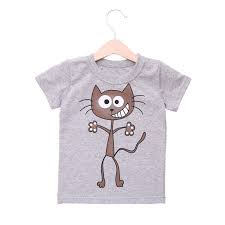cat: (80, 81, 149, 124)
